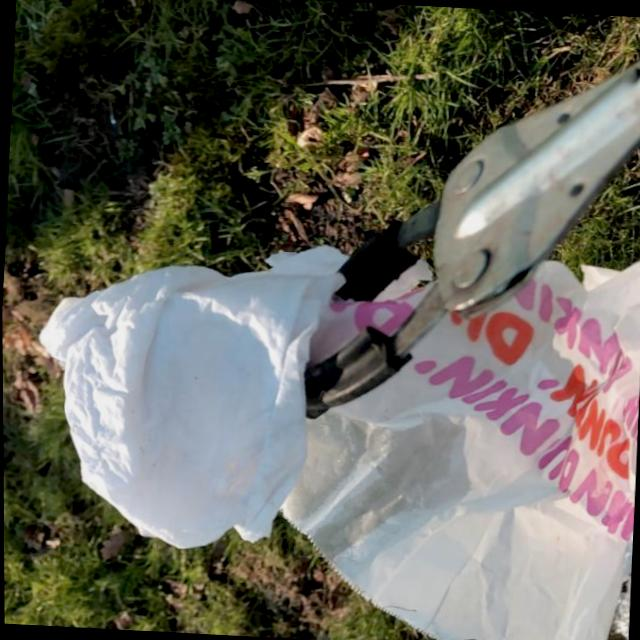Paper: (269, 236, 640, 640), (26, 225, 354, 558)
